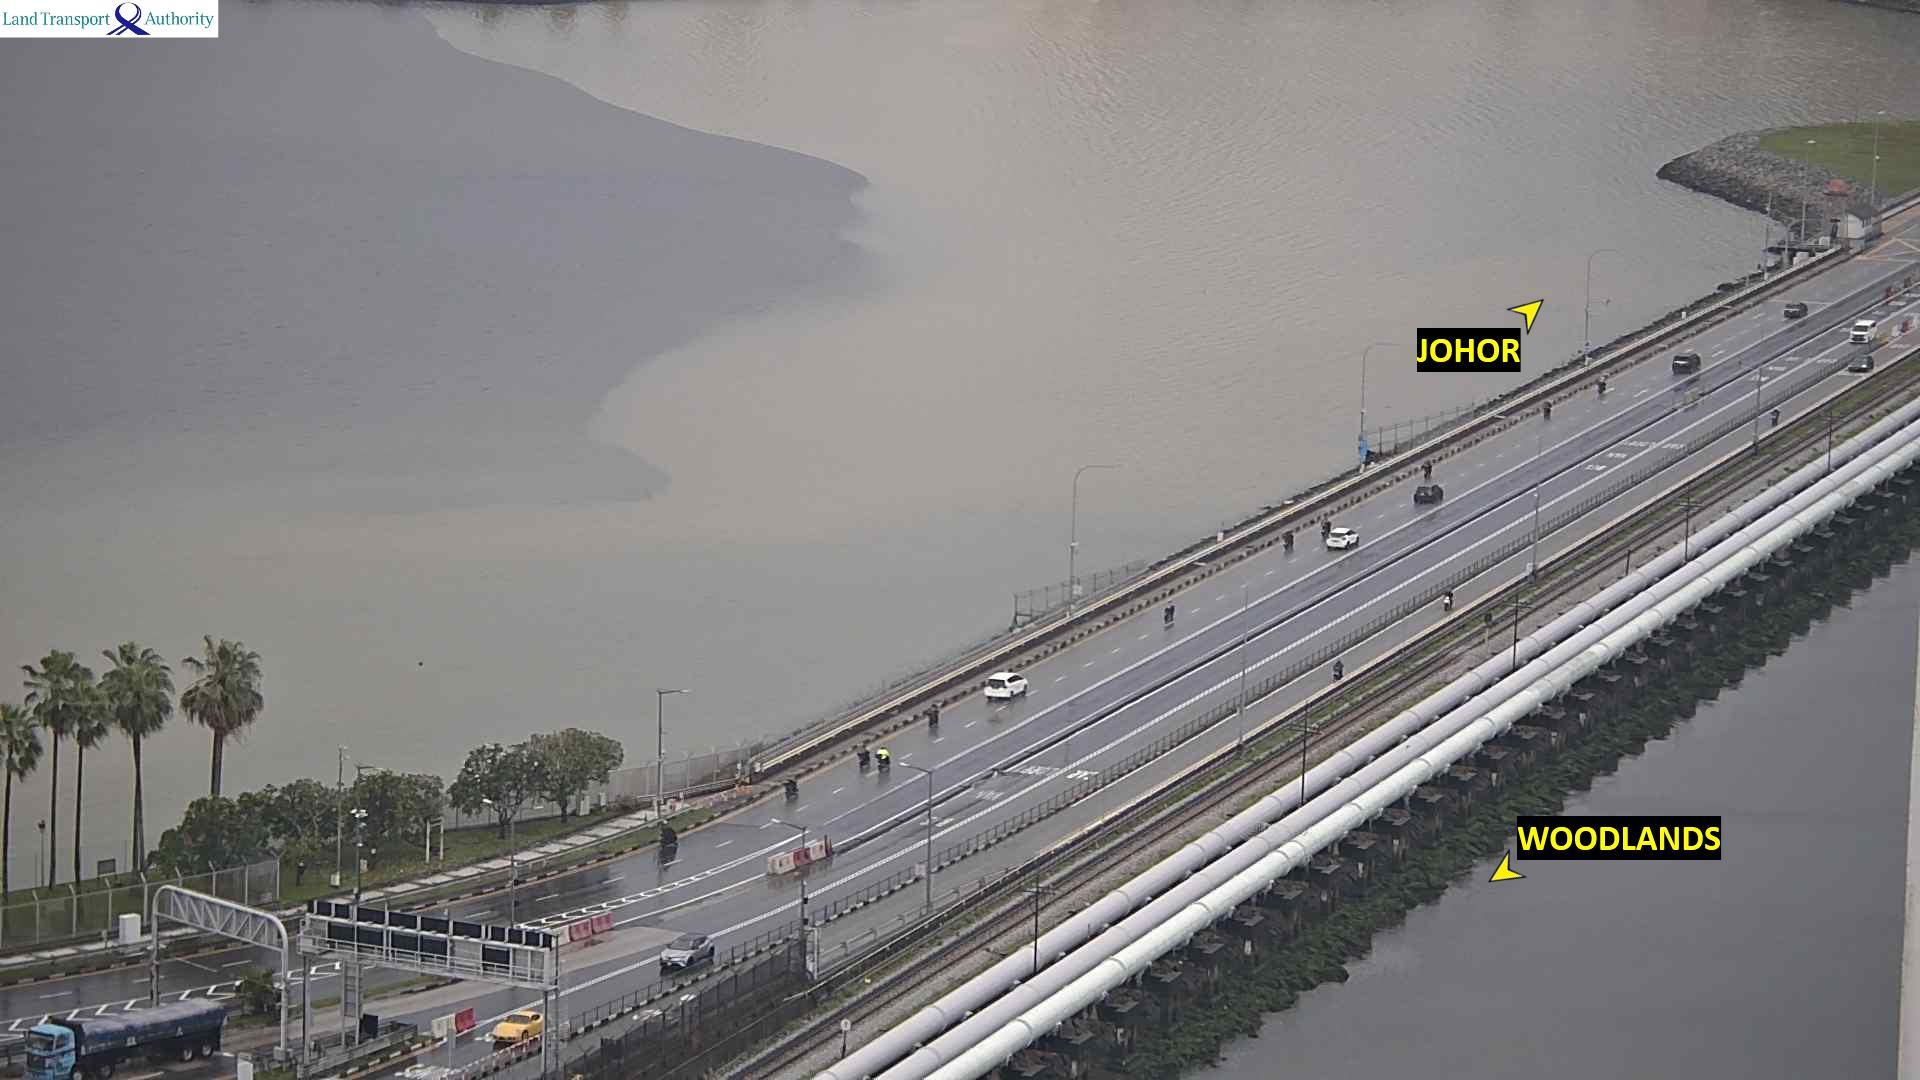vehicle-causeway-johor: (987, 676, 1034, 703), (657, 818, 682, 846), (1328, 528, 1360, 547), (1411, 483, 1442, 501), (1673, 354, 1700, 374), (782, 774, 799, 797), (1160, 599, 1177, 622), (1783, 301, 1808, 316), (856, 744, 872, 767), (1279, 530, 1294, 553), (877, 748, 889, 772), (928, 703, 940, 725), (1540, 399, 1552, 420), (1595, 372, 1605, 392), (1320, 514, 1331, 532), (1422, 460, 1433, 475)
vehicle-causeway-singapore: (19, 1007, 229, 1078), (660, 931, 712, 967), (494, 1010, 542, 1043), (1849, 319, 1875, 341), (1849, 357, 1875, 372), (1441, 588, 1453, 607), (1768, 407, 1780, 424), (1334, 658, 1344, 676)
